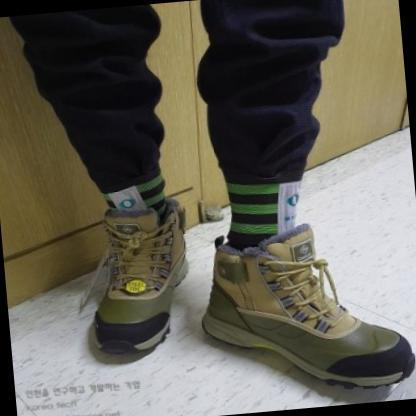safety-shoe: (197, 214, 415, 404), (68, 200, 200, 364)
